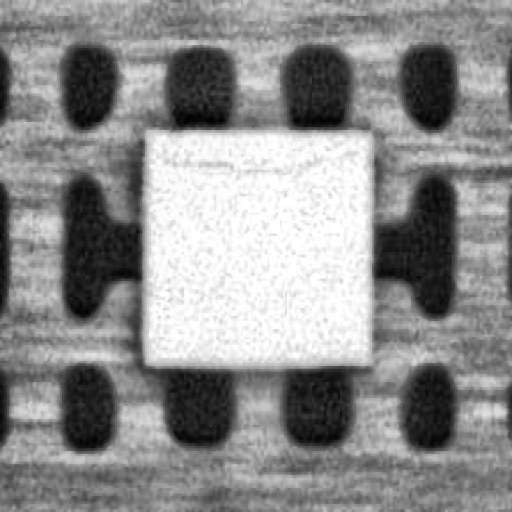DIE_CRACK: (168, 138, 358, 175)
